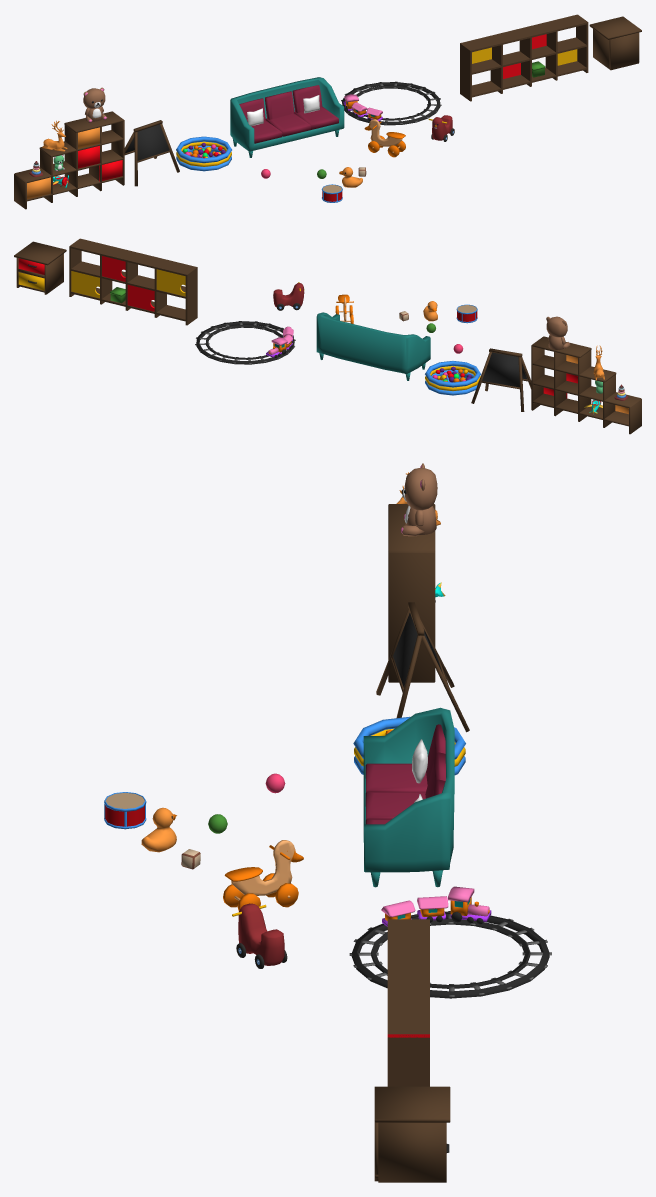
File: Play_Room.fbx
3 renders of one model, top to bottom at view 1: azimuth 30°, elevation 25°; view 2: azimuth 150°, elevation 25°; view 3: azimuth 270°, elevation 25°, orthographic. The views are drawn at different scales.
Parts seen in each view (by area): view 1: Side_Rack_03, Sofa_Sofa1_0, Side_Rack_02, Wooden_Table, Ball_Pool1, Side_Rack_1, Stand_BlackBoard, Track_Colorpalet__0, Duck_bike, Bear_01, Train_Colorpalet__0, Dumpy (+3 smaller); view 2: Side_Rack_03, Side_Rack_02, Sofa_Sofa1_0, Wooden_Table, Stand_BlackBoard, Ball_Pool1, Track_Colorpalet__0, Bear_01, Dumpy, Train_Colorpalet__0, Drum, Side_Rack_1 (+1 smaller); view 3: Sofa_Sofa1_0, Wooden_Table, Side_Rack_03, Side_Rack_02, Track_Colorpalet__0, Duck_bike, Stand_BlackBoard, Train_Colorpalet__0, Dumpy, Bear_01, Drum, Ball_Pool1 (+1 smaller).
Part boxes in pixels (x1,y1,x2,y2): Side_Rack_03: (460,14,588,101); Sofa_Sofa1_0: (230,77,344,157); Side_Rack_02: (14,111,124,209); Wooden_Table: (589,16,641,70); Ball_Pool1: (176,136,231,171); Side_Rack_1: (27,127,122,199); Stand_BlackBoard: (124,120,179,186); Track_Colorpalet__0: (341,81,441,125); Duck_bike: (364,119,405,157); Bear_01: (83,87,107,123); Train_Colorpalet__0: (343,94,382,121); Dumpy: (428,115,454,141); Side_Rack_03: (69,238,197,325); Side_Rack_02: (531,336,641,434); Sofa_Sofa1_0: (316,312,430,380); Wooden_Table: (14,241,66,294); Stand_BlackBoard: (471,348,531,411); Ball_Pool1: (425,361,480,395); Track_Colorpalet__0: (195,321,295,364); Bear_01: (546,316,570,350); Dumpy: (273,282,304,310); Train_Colorpalet__0: (266,326,293,357); Drum: (456,304,477,323); Side_Rack_1: (543,355,628,414); Sofa_Sofa1_0: (363,707,454,887); Wooden_Table: (374,1086,450,1182); Side_Rack_03: (387,919,429,1086); Side_Rack_02: (388,504,435,682); Track_Colorpalet__0: (349,911,551,998); Duck_bike: (223,840,303,911); Stand_BlackBoard: (376,602,469,732); Train_Colorpalet__0: (381,886,491,926); Dumpy: (232,903,287,968); Bear_01: (401,463,437,536); Drum: (104,792,146,829); Ball_Pool1: (353,716,465,775).
Size of the model in its own units: 2074 by 314 by 656.
